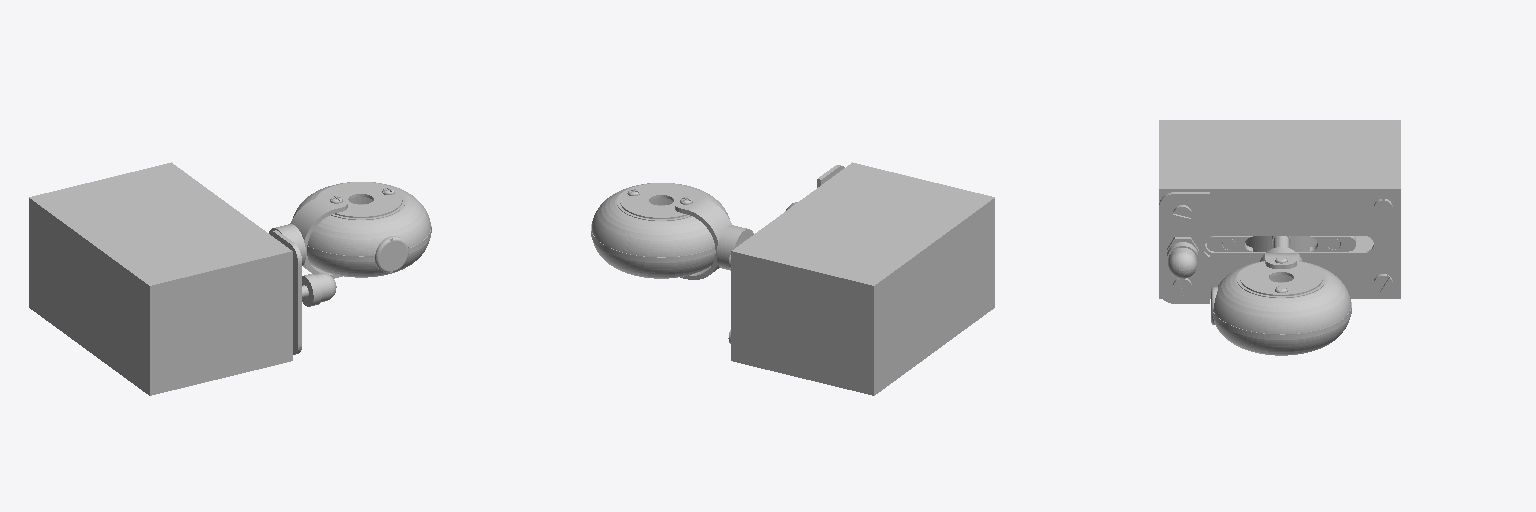
Rendered from gear_lever.obj.
3 views of the same model, side by side, from view 1: azimuth 30°, elevation 25°; view 2: azimuth 150°, elevation 25°; view 3: azimuth 270°, elevation 25° (orthographic).
Visible parts, largest first — view 1: cover (Meshed), torus (Meshed), torus_lateral (Meshed), torus_support (Meshed), frontal_1 (Meshed), torus_screew (Meshed), emerg_up_push (Meshed), frontal (Meshed), torus_central (Meshed); view 2: cover (Meshed), torus (Meshed), torus_lateral (Meshed), torus_support (Meshed), torus_arm_ring (Meshed), torus_central (Meshed), frontal (Meshed); view 3: cover (Meshed), frontal (Meshed), torus (Meshed), frontal_1 (Meshed), torus_lateral (Meshed), screews_frontal (Meshed), emerg_up_push (Meshed), torus_central (Meshed), disk (Meshed), stop_down (Meshed), stop_up (Meshed).
Boxes of the visible parts, x1,y1,x2,y2 form: cover (Meshed): [29, 163, 289, 395]; torus (Meshed): [293, 182, 430, 277]; torus_lateral (Meshed): [320, 182, 402, 217]; torus_support (Meshed): [290, 195, 347, 278]; frontal_1 (Meshed): [273, 230, 301, 354]; torus_screew (Meshed): [375, 236, 408, 272]; emerg_up_push (Meshed): [302, 273, 336, 306]; frontal (Meshed): [169, 162, 292, 361]; torus_central (Meshed): [307, 226, 431, 261]; cover (Meshed): [734, 163, 994, 395]; torus (Meshed): [592, 183, 729, 278]; torus_lateral (Meshed): [620, 183, 701, 218]; torus_support (Meshed): [675, 196, 731, 279]; torus_arm_ring (Meshed): [717, 225, 753, 270]; torus_central (Meshed): [591, 224, 715, 262]; frontal (Meshed): [731, 162, 854, 361]; cover (Meshed): [1159, 120, 1400, 251]; frontal (Meshed): [1159, 188, 1400, 298]; torus (Meshed): [1213, 261, 1350, 355]; frontal_1 (Meshed): [1159, 192, 1209, 303]; torus_lateral (Meshed): [1240, 261, 1322, 295]; screews_frontal (Meshed): [1173, 199, 1392, 295]; emerg_up_push (Meshed): [1167, 242, 1198, 278]; torus_central (Meshed): [1213, 302, 1351, 339]; disk (Meshed): [1245, 236, 1317, 251]; stop_down (Meshed): [1310, 236, 1355, 251]; stop_up (Meshed): [1207, 236, 1252, 251].
Bounding box in the file's own units: 121 × 38.1 × 76.